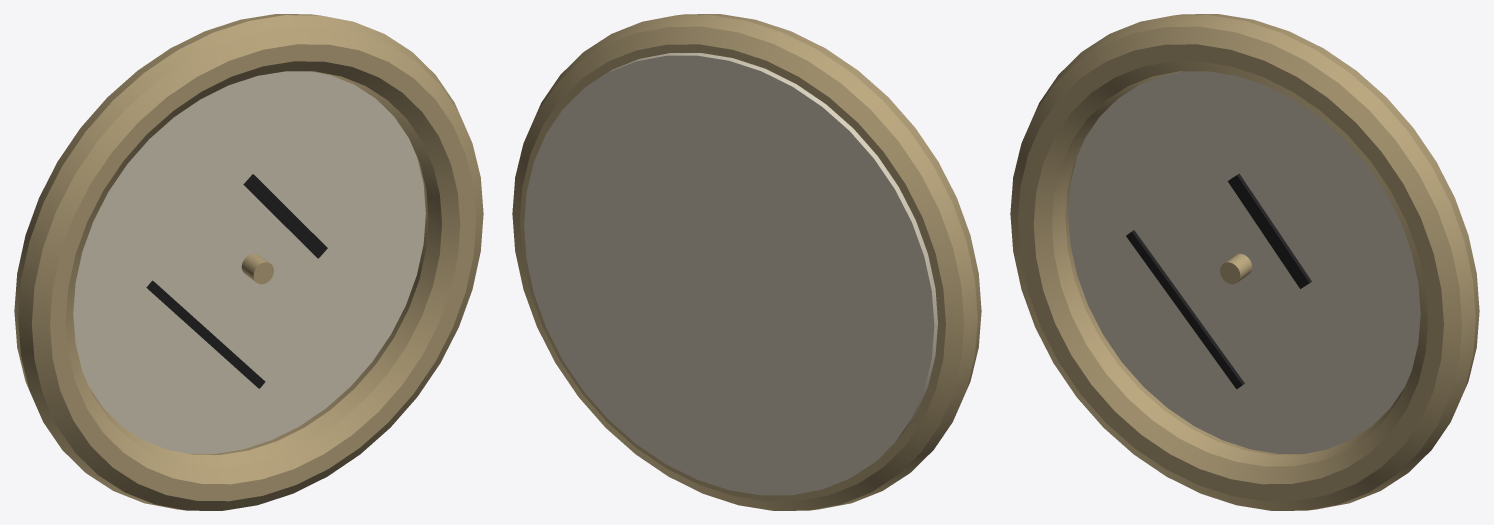
File: wall_clock.glb
3 renders of one model, left to right at view 1: azimuth 30°, elevation 25°; view 2: azimuth 150°, elevation 25°; view 3: azimuth 330°, elevation 25°, orthographic.
Visible parts, largest first — view 1: wall_clock; view 2: wall_clock; view 3: wall_clock.
Part boxes in pixels (<box>): wall_clock: <box>14,14,483,510</box>; wall_clock: <box>512,14,981,510</box>; wall_clock: <box>1010,14,1479,510</box>.
Bounding box in the file's own units: 0.45 × 0.45 × 0.055.
